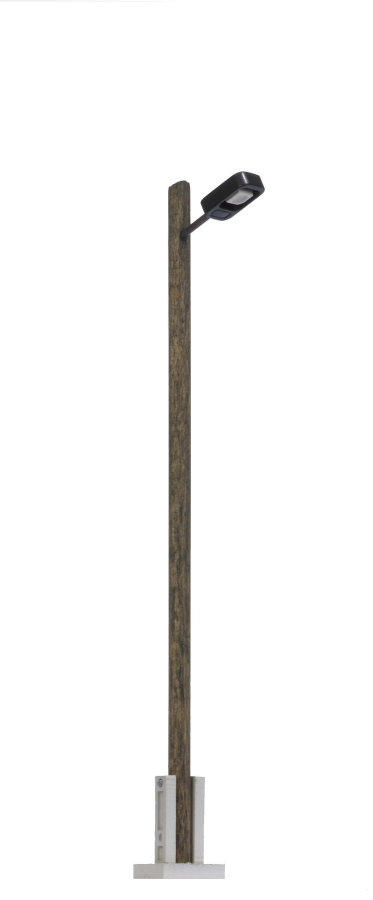light_pole: (160, 153, 258, 875)
